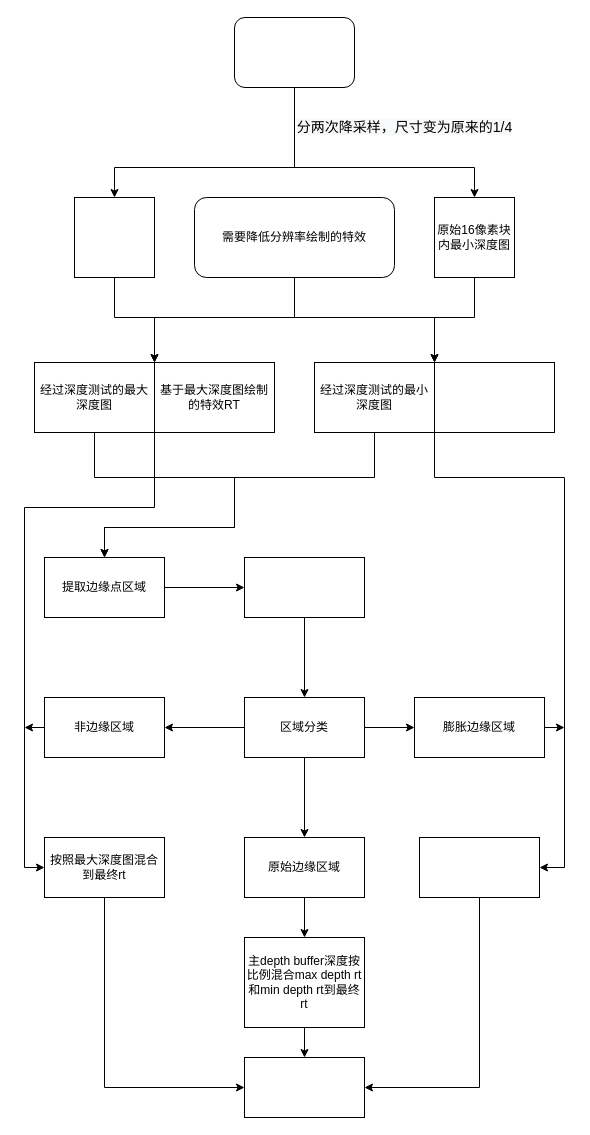
Image size: 590x1135. Some labels were removed from this diagram. Each missing label, with the centre of its shape:
原始16像素块内最大深度图: (114,237)
基于最小深度图绘制的特效RT: (494,397)
当前 back depth buffer: (294,52)
按照最小深度图混合到最终rt: (479,867)
最终结果: (304,1087)
边缘点区域膨胀（只允许向depth更小的像素点流动）: (304,587)
